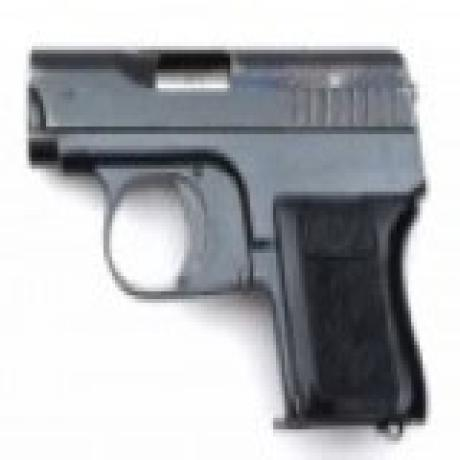weapon: (24, 41, 428, 442)
